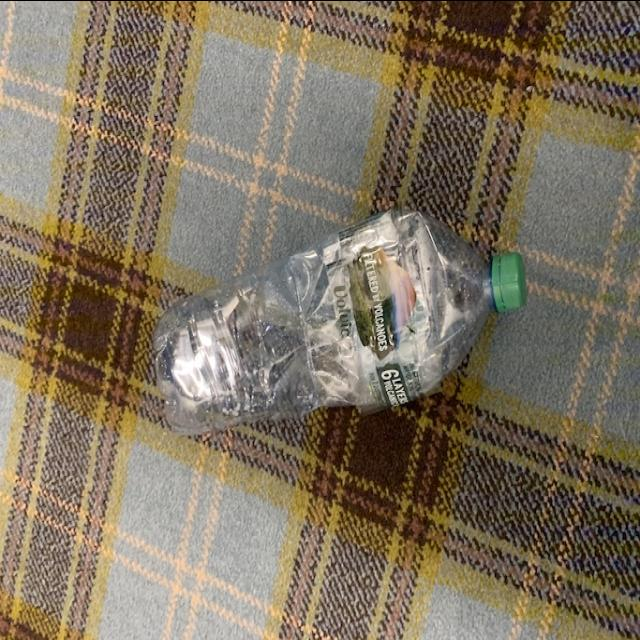litter: (152, 208, 528, 438)
